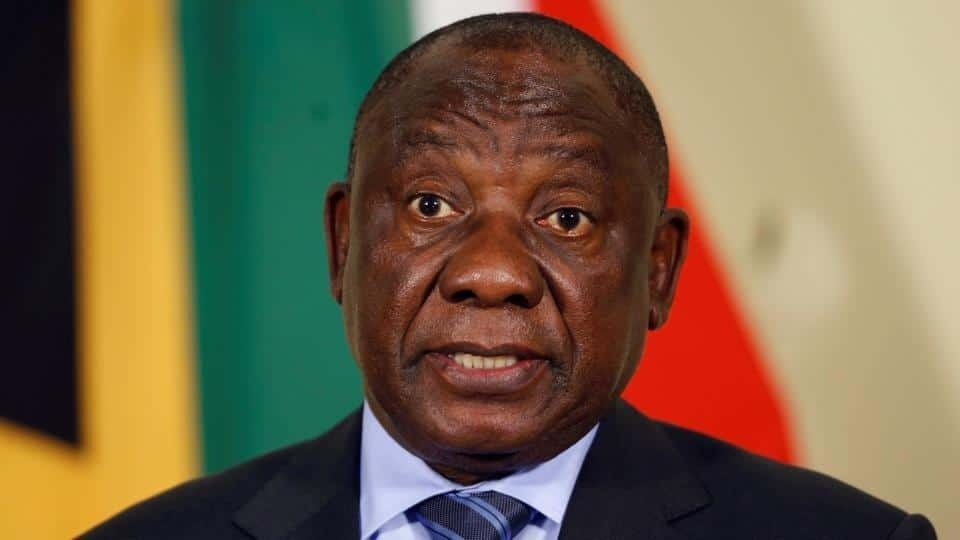face_no_mask: (323, 11, 685, 475)
